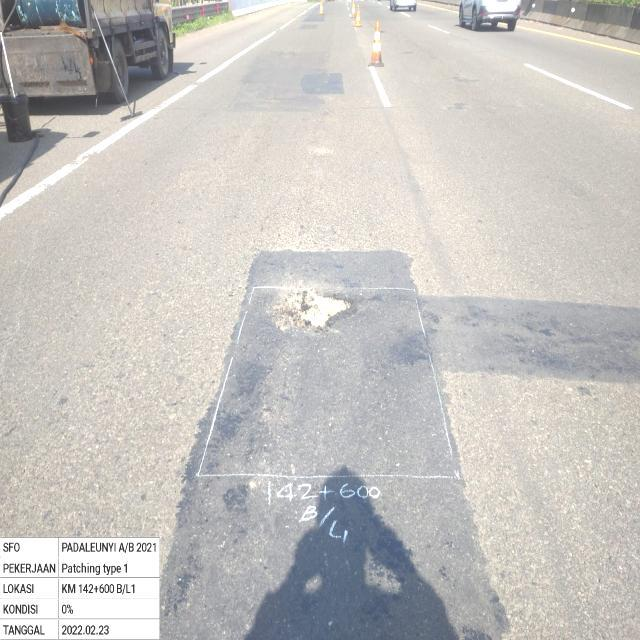Buraco: (261, 284, 360, 338)
